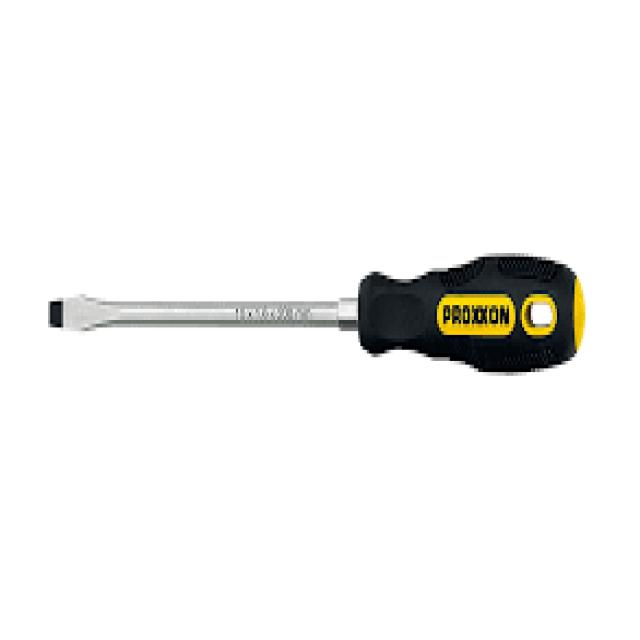screw driver: (38, 230, 601, 440)
